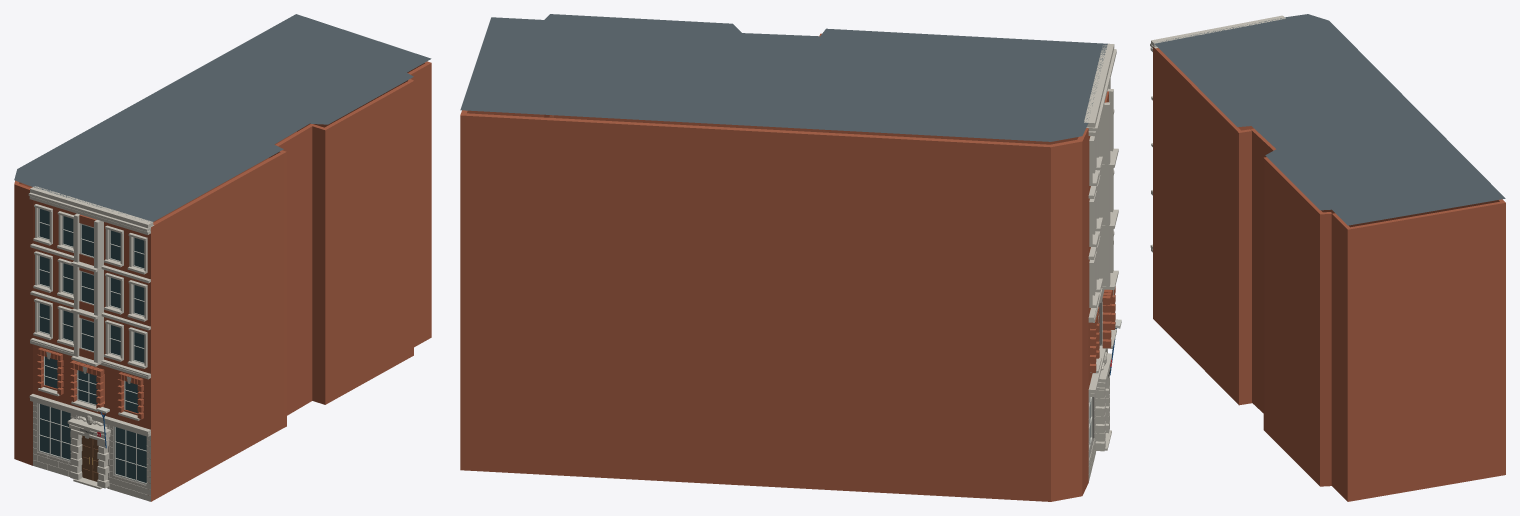
The model's file is ksw-exterior-d8447c4017a7.glb.
The picture shows the model from 3 angles, left to right: view 1: azimuth 30°, elevation 25°; view 2: azimuth 150°, elevation 25°; view 3: azimuth 270°, elevation 25°; orthographic projection. The views are drawn at different scales.
Parts seen in each view (by area): view 1: KSW.001; view 2: KSW.001; view 3: KSW.001.
Boxes of the visible parts, x1,y1,x2,y2 form: KSW.001: (14,14,431,501); KSW.001: (460,14,1121,501); KSW.001: (1150,14,1505,501).
Bounding box in the file's own units: 33.77 × 20.55 × 23.99.
